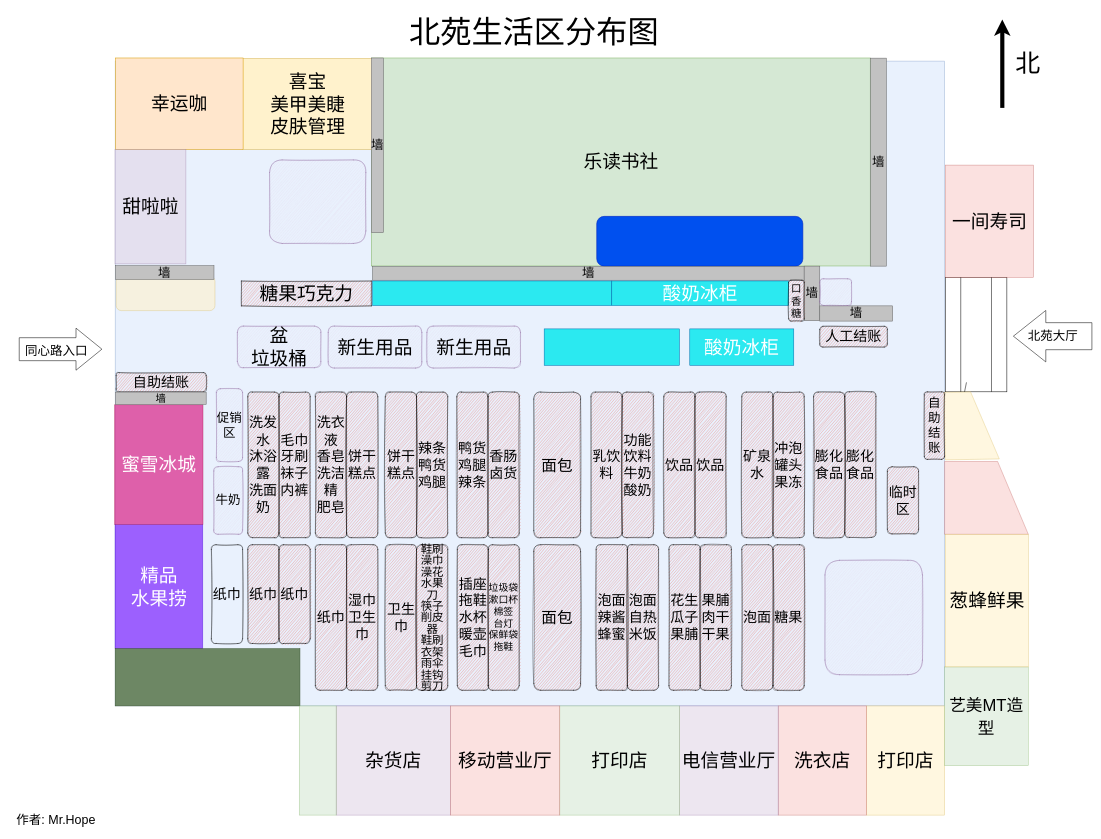
The diagram is 1101 pixels wide and 839 high, and some of its shapes have lost their labels. The box of each missing label's shape, as (x1, y1, x2, y2) in pixels:
休闲区 桌椅: (269, 159, 366, 243)
刘刘美味小屋: (944, 461, 1028, 534)
办公室: (299, 705, 336, 815)
回收机: (819, 278, 852, 306)
小姑娘 冰激凌: (943, 391, 999, 460)
楼梯: (945, 277, 1007, 392)
消防楼梯: (115, 648, 300, 706)
瑞幸咖啡: (596, 216, 803, 266)
苹果校园体验中心: (824, 560, 922, 675)
雪糕 冰激凌: (544, 328, 679, 365)
饮品冰柜: (372, 280, 612, 306)
鲜花: (116, 276, 215, 311)
